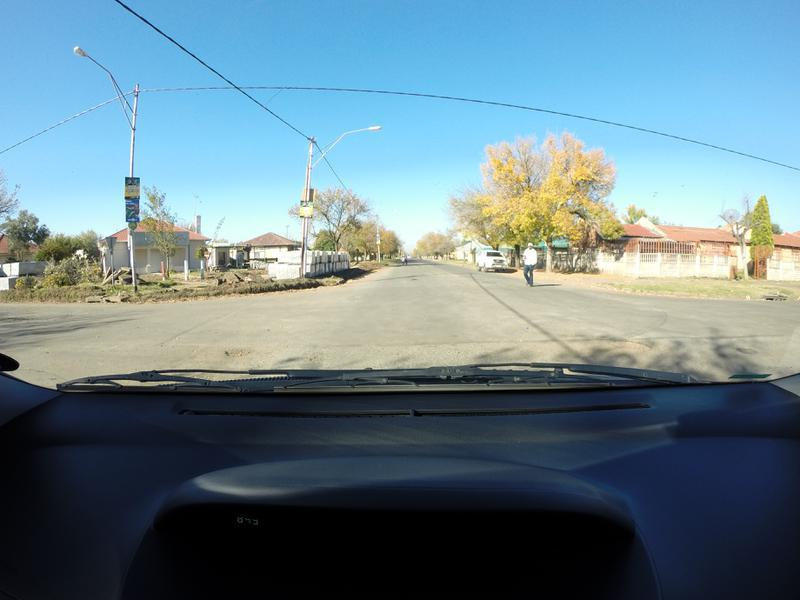pothole: (223, 344, 261, 357), (291, 353, 322, 366)
